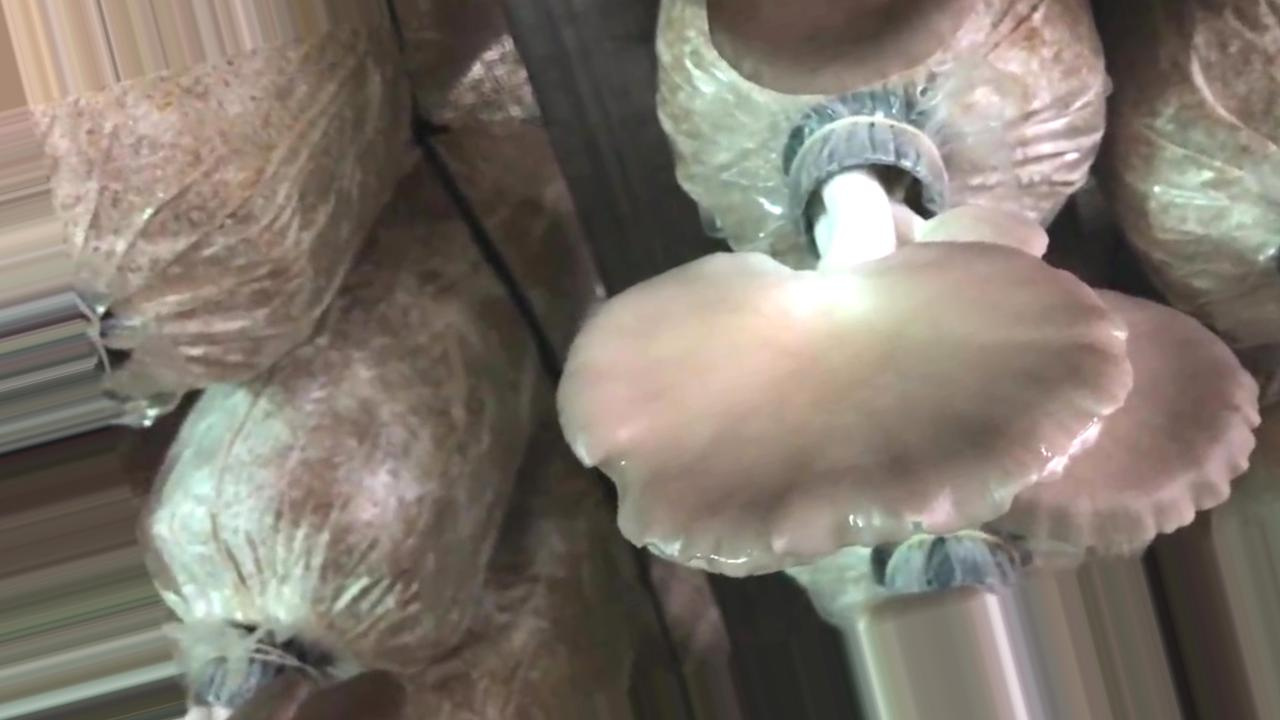nam: (550, 103, 1135, 587), (998, 289, 1259, 549), (708, 1, 991, 99)
